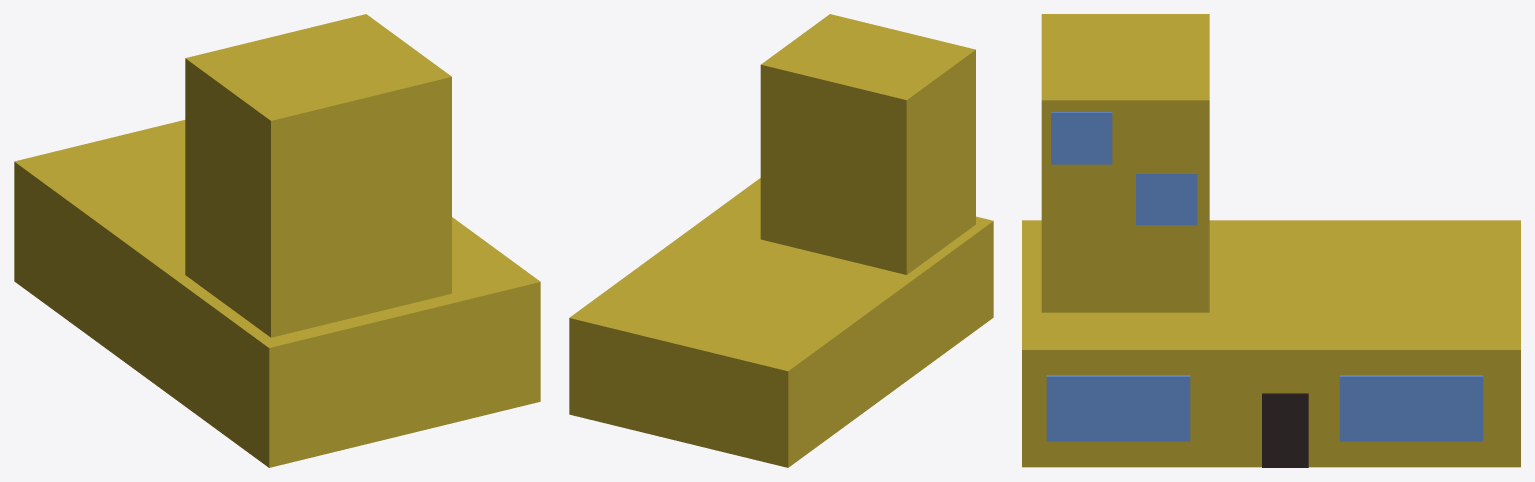
The model's file is Casa_Amarilla.fbx.
3 renders of one model, left to right at view 1: azimuth 30°, elevation 25°; view 2: azimuth 150°, elevation 25°; view 3: azimuth 270°, elevation 25°, orthographic. The views are drawn at different scales.
Parts seen in each view (by area): view 1: Cube.010, Cube.011; view 2: Cube.010, Cube.011; view 3: Cube.010, Cube.011, Window_1.005, Window_1.009, Door_1.005, Window_1.007, Window_1.008.
Part boxes in pixels (x1,y1,x2,y2): Cube.010: (14, 120, 540, 467); Cube.011: (185, 14, 451, 337); Cube.010: (569, 178, 993, 467); Cube.011: (760, 14, 975, 274); Cube.010: (1022, 220, 1520, 467); Cube.011: (1041, 14, 1209, 312); Window_1.005: (1046, 375, 1190, 441); Window_1.009: (1339, 375, 1483, 441); Door_1.005: (1262, 393, 1308, 467); Window_1.007: (1051, 112, 1112, 164); Window_1.008: (1136, 173, 1197, 225).
Bounding box in the file's own units: 2391 × 3851 × 2805.
